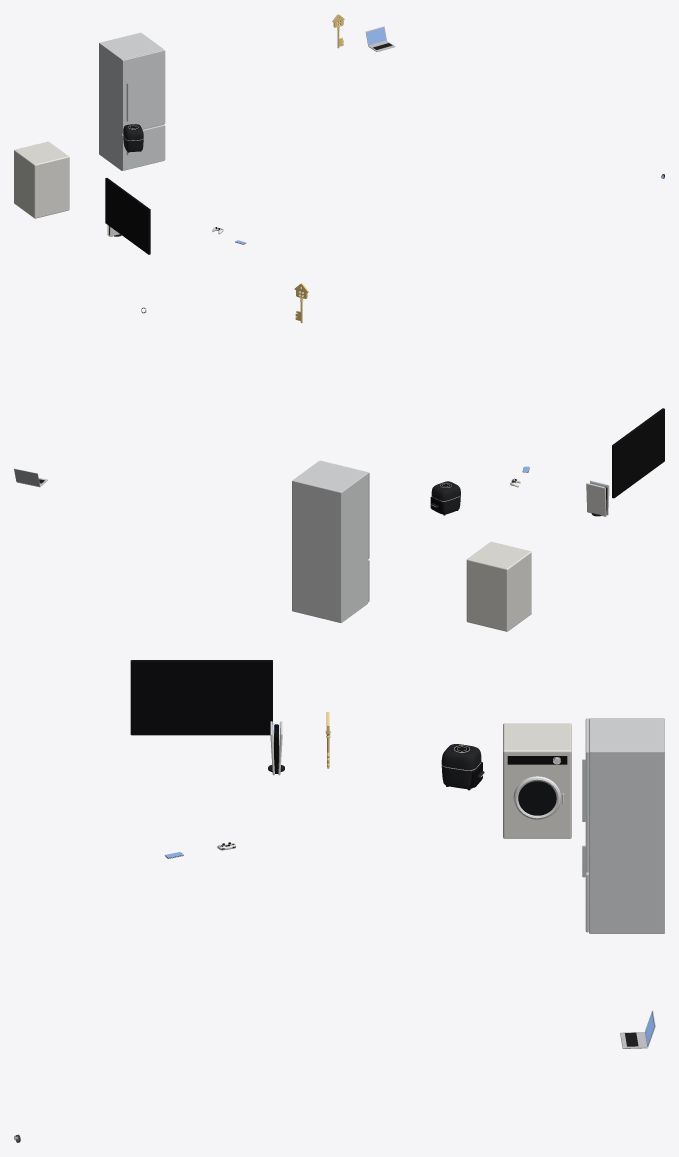
The model's file is coisas.glb.
The picture shows the model from 3 angles, top to bottom: view 1: azimuth 30°, elevation 25°; view 2: azimuth 150°, elevation 25°; view 3: azimuth 270°, elevation 25°; orthographic projection. The views are drawn at different scales.
Parts seen in each view (by area): view 1: geladeira, lavadora, tv, airfryer, notebook; view 2: geladeira, lavadora, tv, airfryer, console; view 3: geladeira, tv, lavadora, airfryer.
Part boxes in pixels (x1,y1,x2,y2): geladeira: (99, 32, 165, 170); lavadora: (14, 141, 69, 218); tv: (105, 178, 150, 254); airfryer: (123, 124, 143, 152); notebook: (365, 26, 395, 51); geladeira: (292, 460, 369, 622); lavadora: (466, 541, 531, 631); tv: (612, 408, 664, 498); airfryer: (430, 481, 460, 515); console: (586, 480, 609, 516); geladeira: (582, 718, 664, 933); tv: (130, 660, 272, 735); lavadora: (503, 723, 571, 838); airfryer: (441, 744, 484, 790).
Size of the model in its own units: 7.92 by 2.87 by 5.67.
